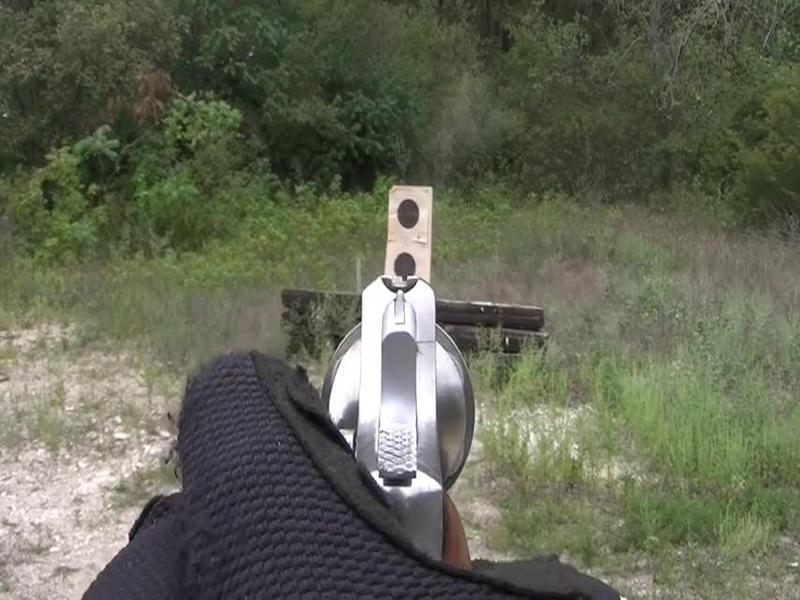Revolver: (297, 244, 490, 543)
